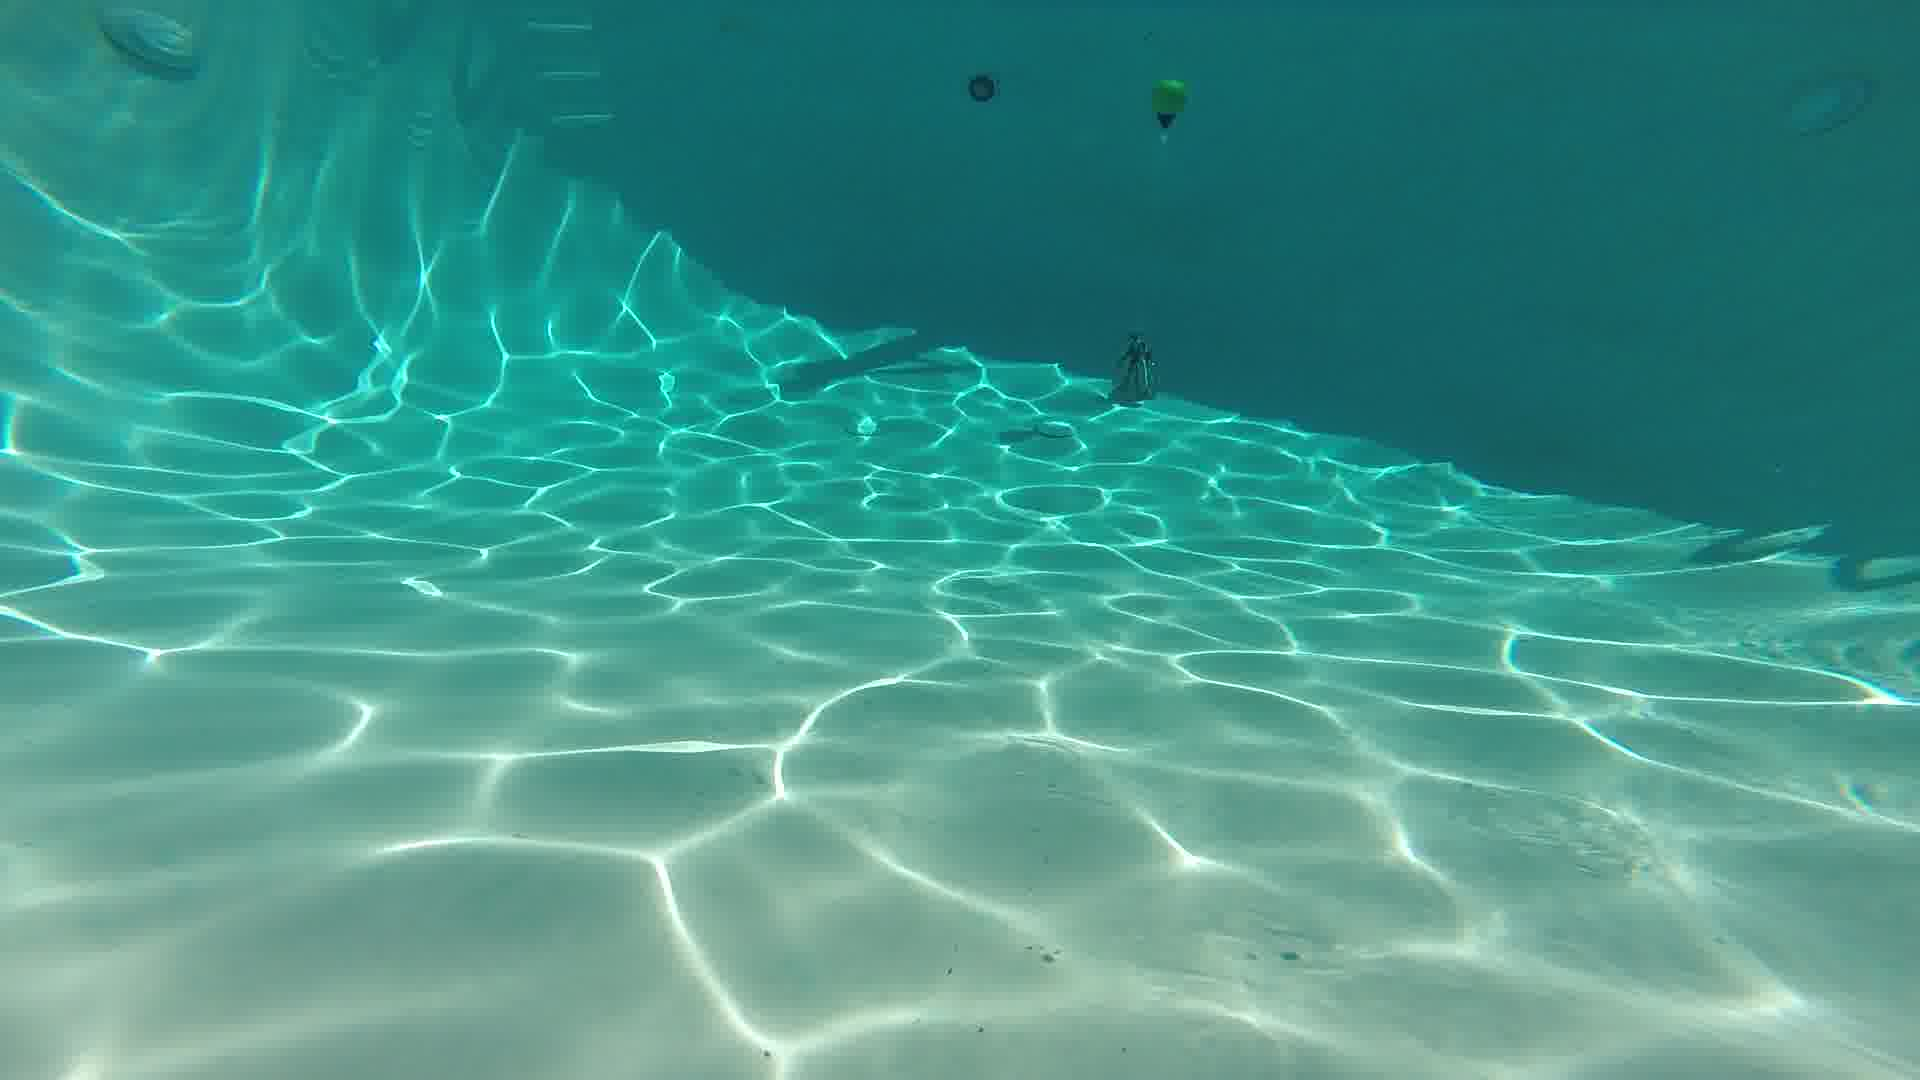yellow buoy: (1143, 73, 1192, 142)
